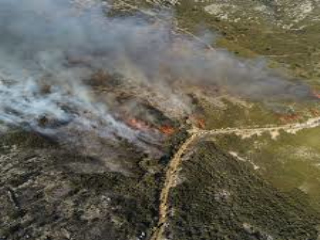smoke: (1, 76, 134, 142), (197, 49, 312, 109)
